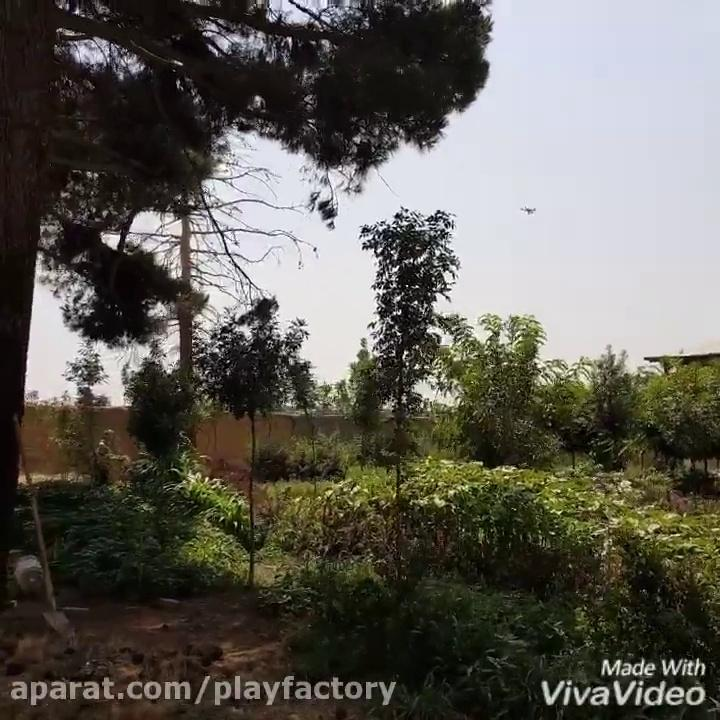drone: (517, 199, 538, 219)
